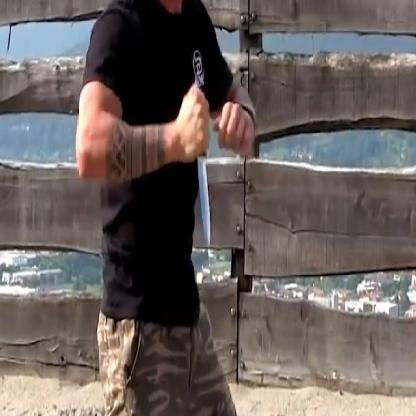knife: (186, 92, 216, 258)
